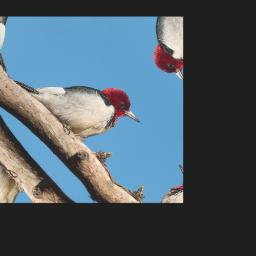Woodpecker: (13, 33, 147, 163)
